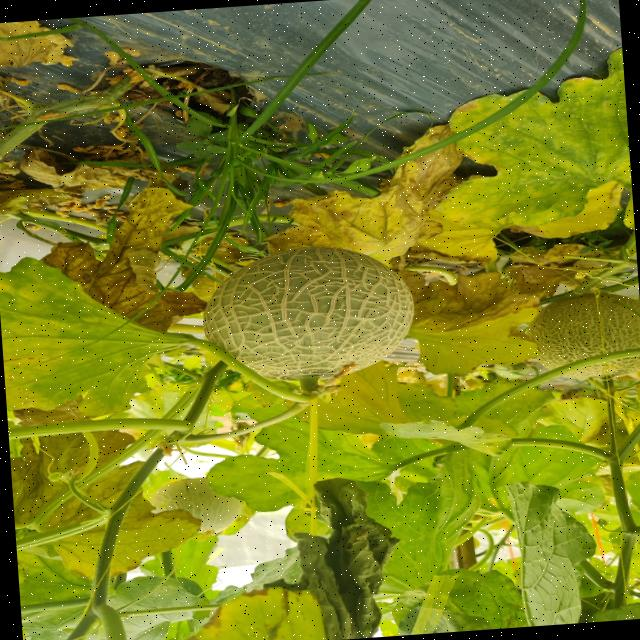melon: (202, 245, 413, 379), (525, 292, 640, 368), (566, 354, 640, 377)
